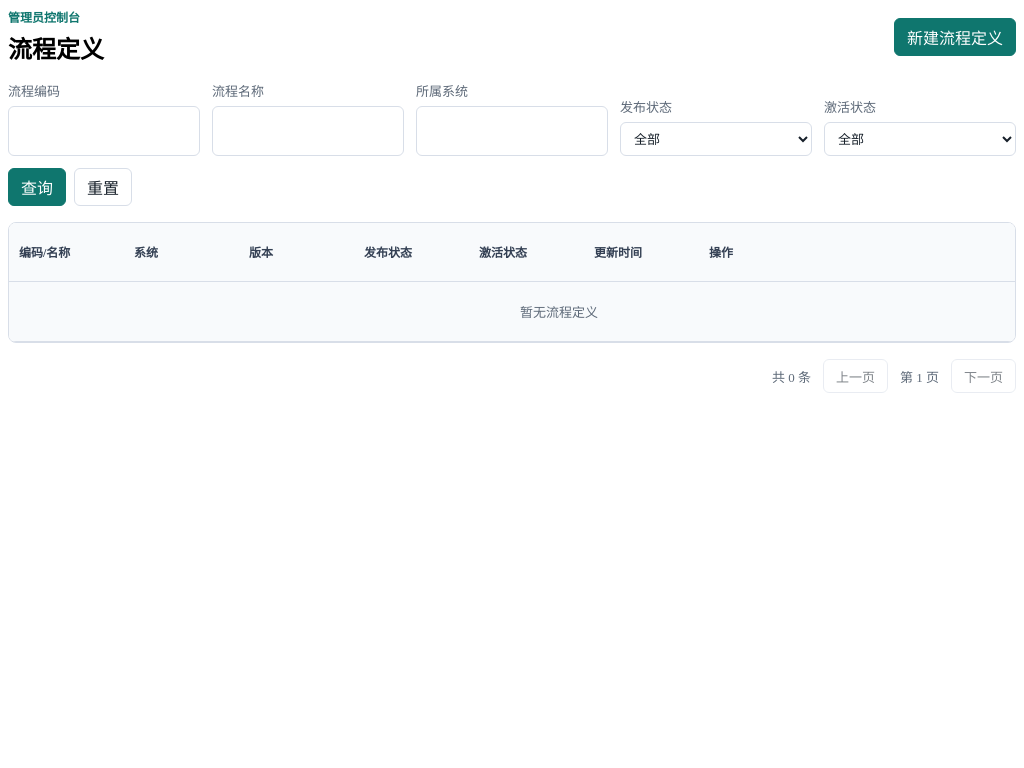
Test: AdminProcessDefinitionsView › opens a complete entry-application draft for a new definition
The image size is (1024, 768).
Click the button "新建流程定义": click(955, 36) [894, 18, 1016, 56]
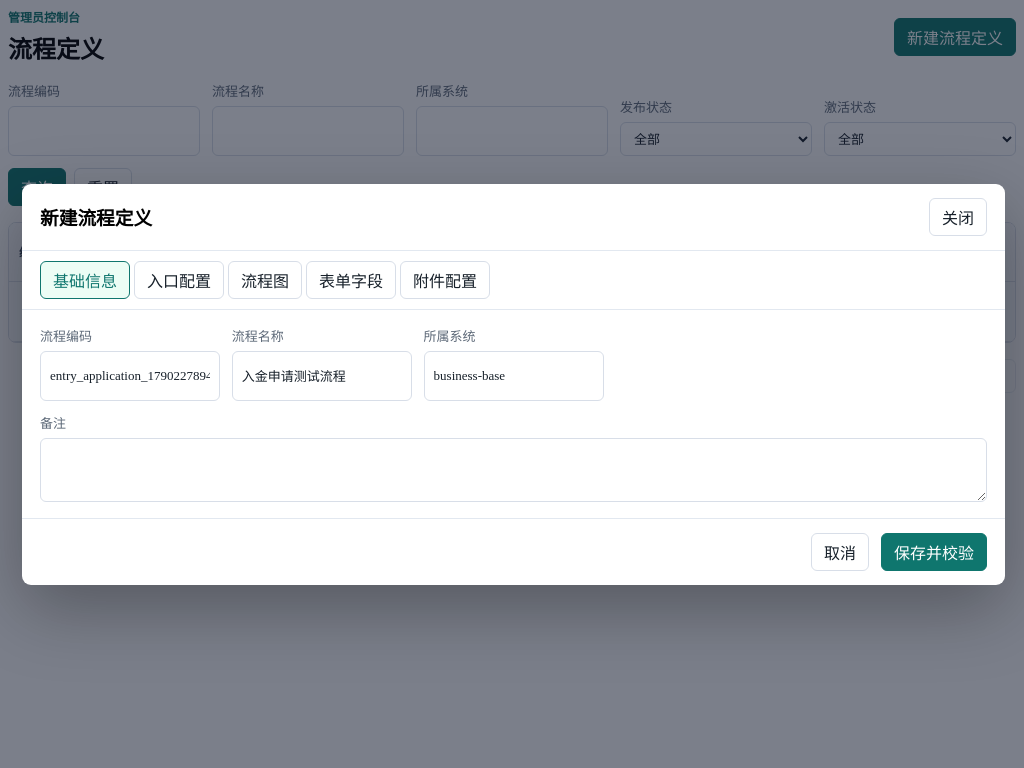
expect the field labelled "流程名称" holds "入金申请测试流程": met, box [232, 350, 412, 400]
Click the button "流程图": click(265, 280) [228, 260, 302, 298]
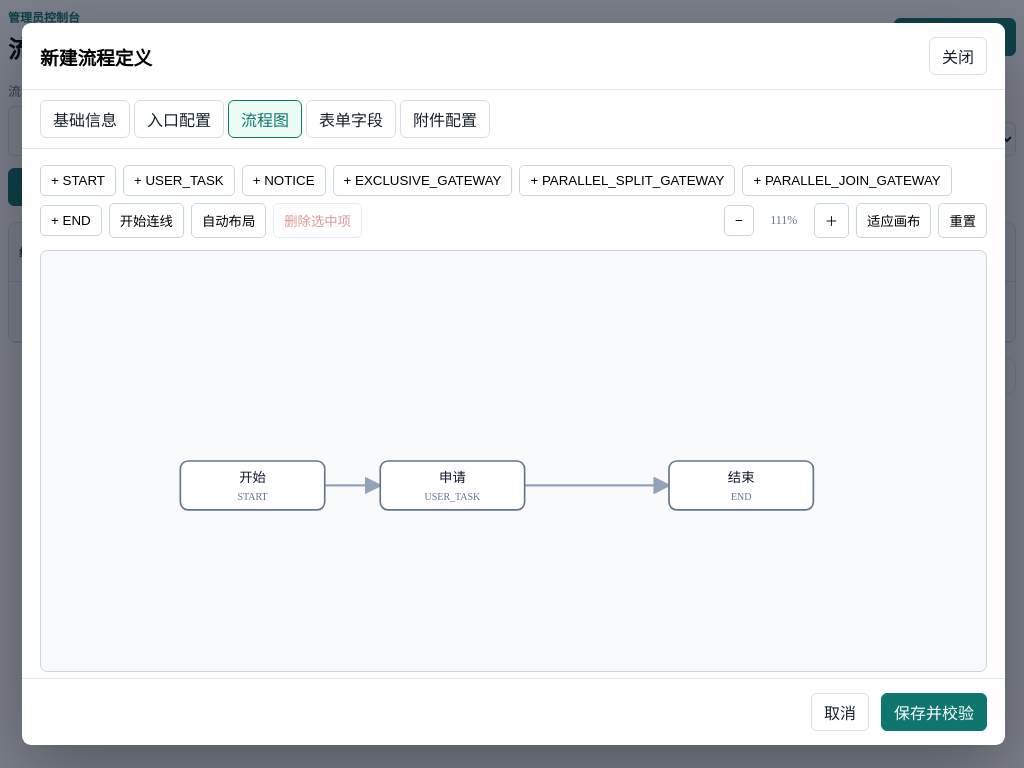
Click the button "表单字段": click(351, 119) [306, 100, 396, 138]
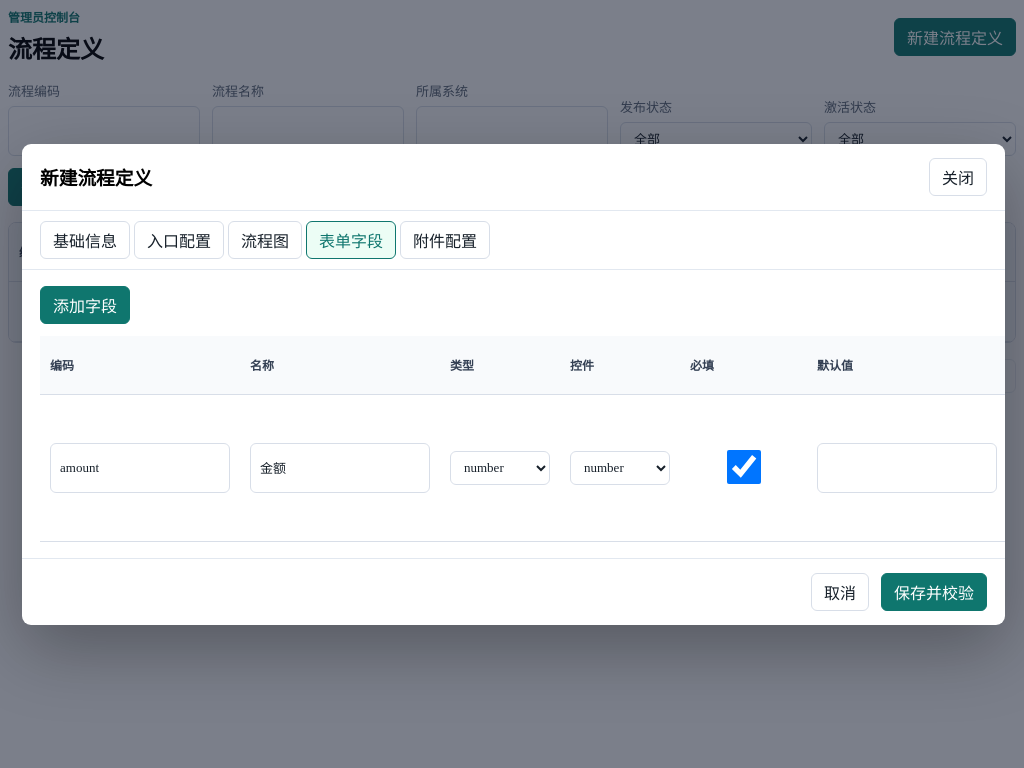
expect the 1st field holds "amount": met, box [50, 442, 230, 492]
expect the 2nd field holds "金额": met, box [250, 442, 430, 492]
